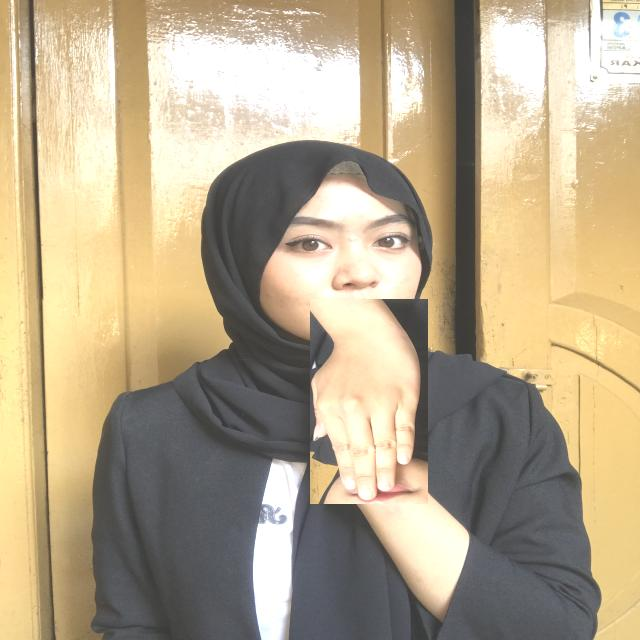ganteng: (309, 298, 428, 504)
